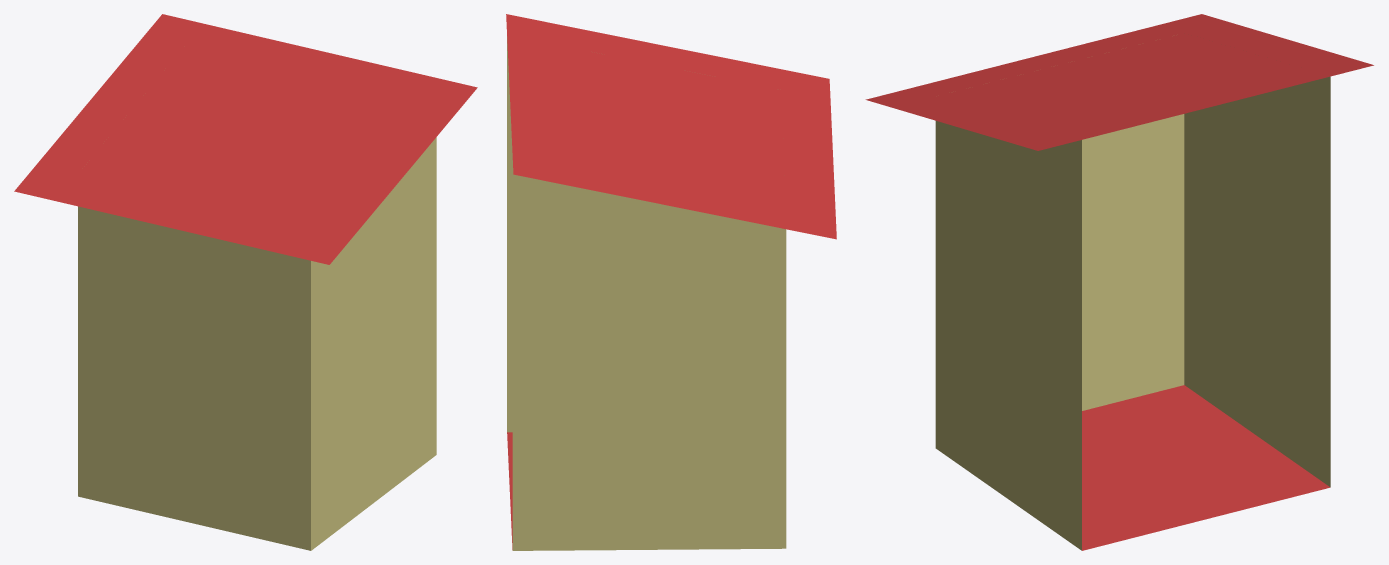
The picture shows the model from 3 angles, left to right: view 1: azimuth 30°, elevation 25°; view 2: azimuth 150°, elevation 25°; view 3: azimuth 270°, elevation 25°; orthographic projection. The views are drawn at different scales.
Size of the model in its own units: 7.15 by 7.44 by 6.63.
